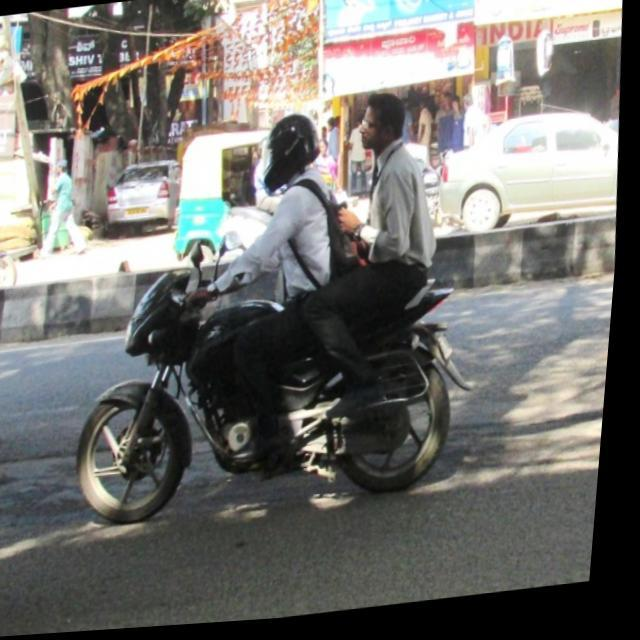Helmet: (254, 107, 326, 193)
Nonhelmet: (352, 89, 414, 167)
